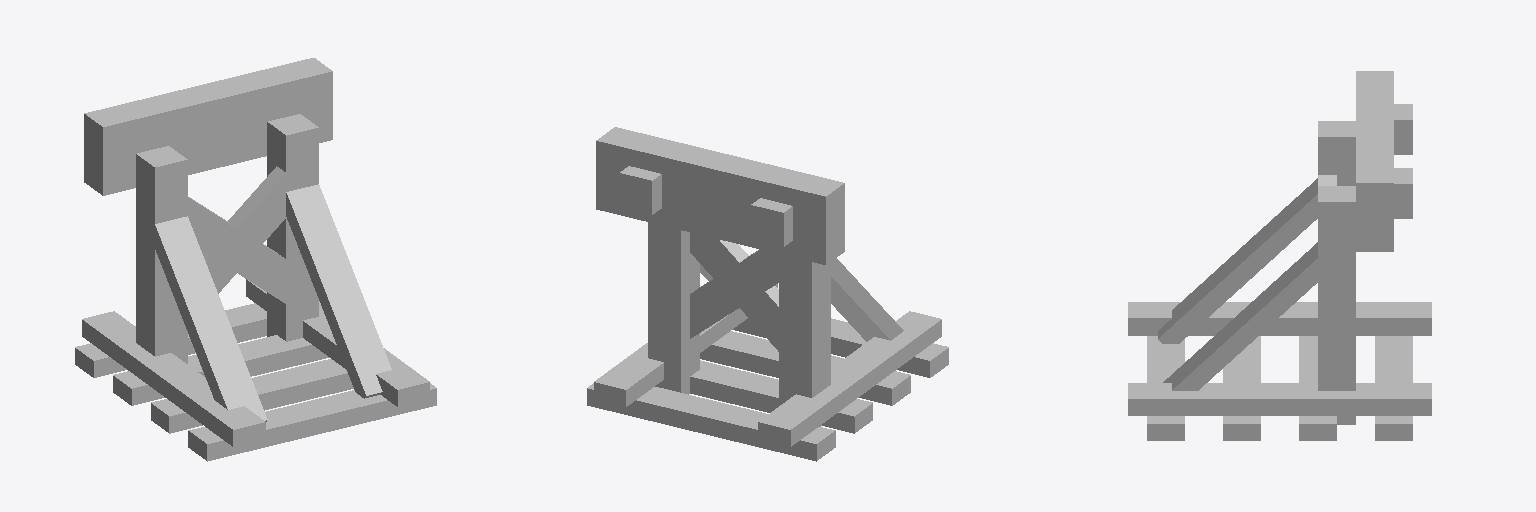
Rendered from sm_mapnodes_bumper.obj.
The picture shows the model from 3 angles: view 1: azimuth 30°, elevation 25°; view 2: azimuth 150°, elevation 25°; view 3: azimuth 270°, elevation 25°; orthographic projection.
Parts seen in each view (by area): view 1: Bumper1_Cube.003; view 2: Bumper1_Cube.003; view 3: Bumper1_Cube.003.
Boxes of the visible parts, box(x1,y1,x2,y2) form: Bumper1_Cube.003: box(75, 58, 436, 461); Bumper1_Cube.003: box(587, 127, 948, 461); Bumper1_Cube.003: box(1128, 71, 1431, 440).
Size of the model in its own units: 0.875 by 0.9375 by 1.